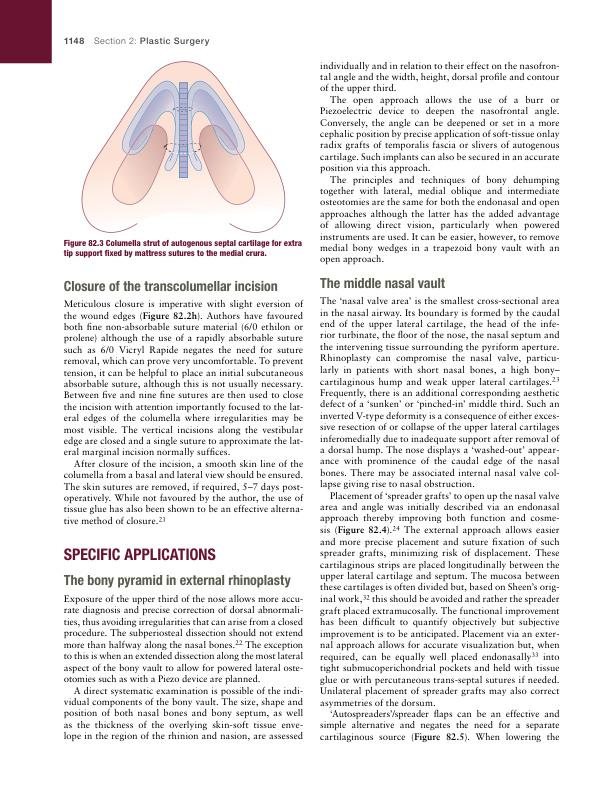caption: (62, 238, 303, 259)
header: (93, 36, 211, 46)
image: (63, 55, 302, 236)
section-heading: (63, 547, 217, 562)
sub-section-heading: (63, 573, 292, 589), (63, 279, 279, 292), (319, 277, 447, 289)
text: (318, 295, 560, 745), (63, 299, 304, 527), (318, 59, 560, 267), (62, 593, 304, 743)
